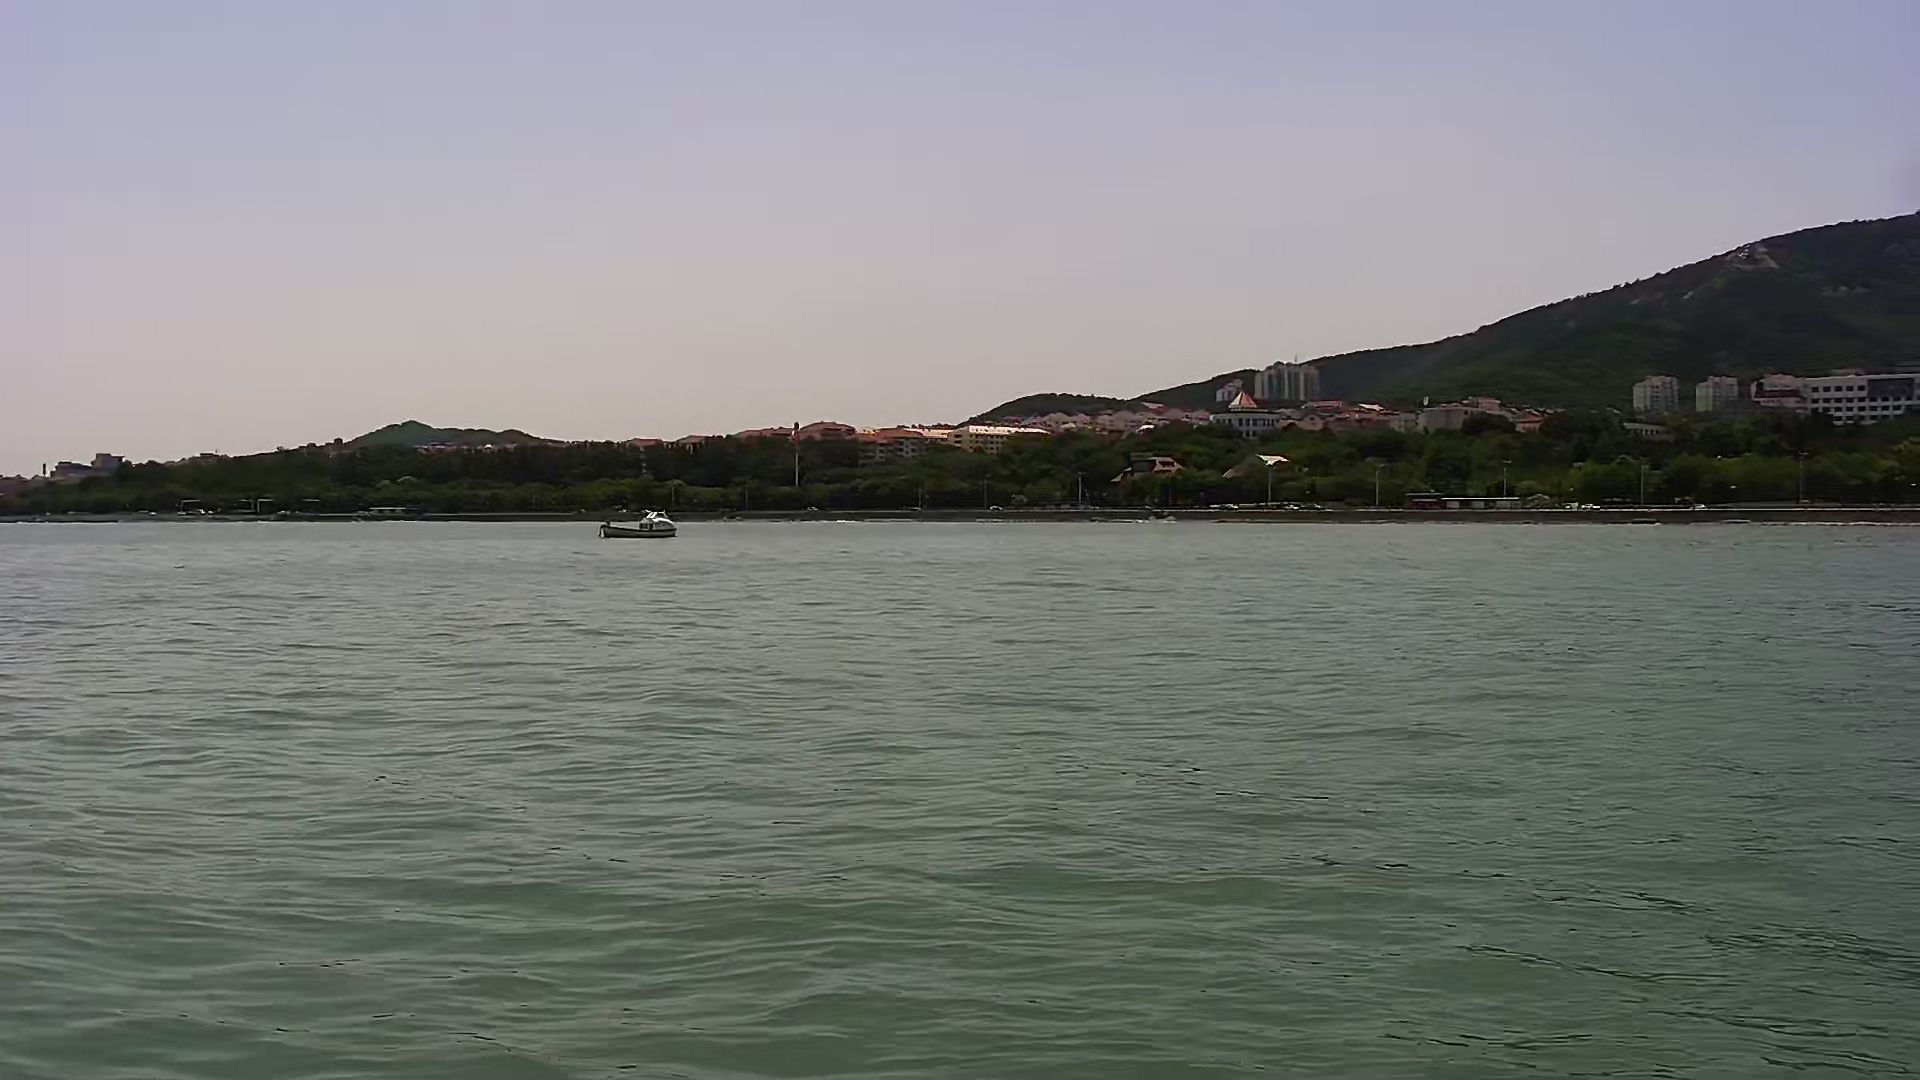ship: (597, 510, 682, 542)
